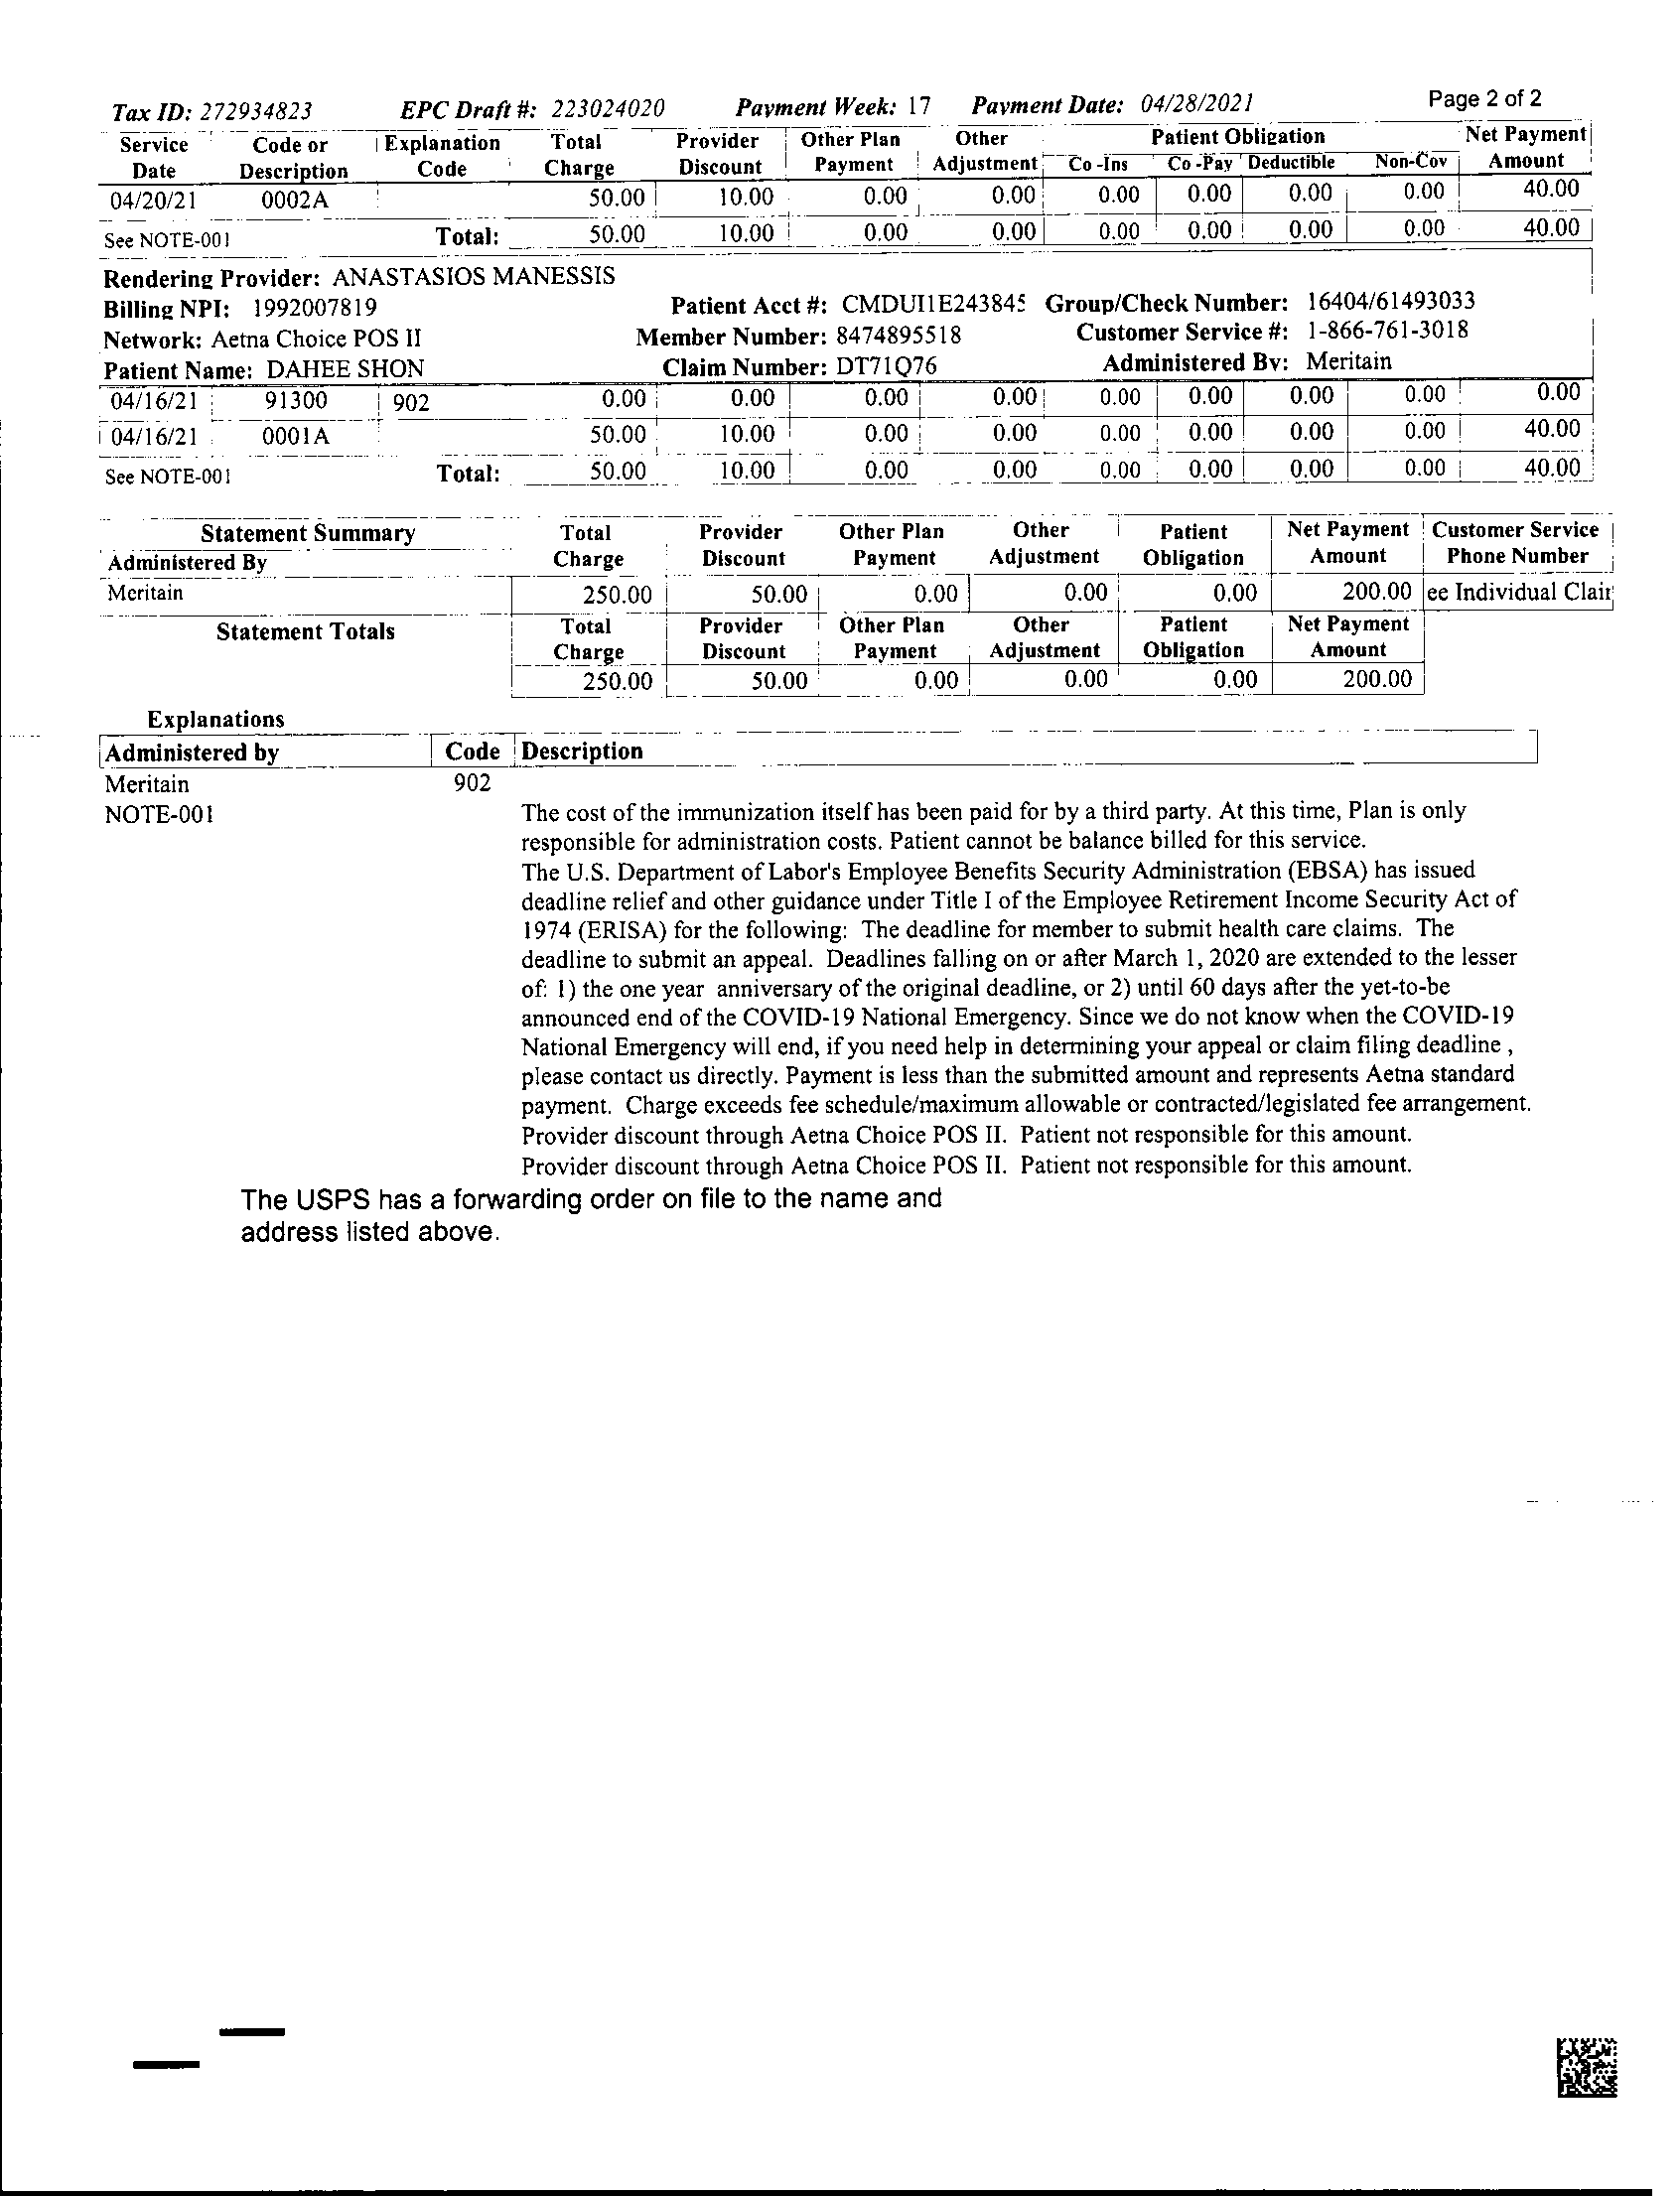data: (97, 261, 1491, 379)
table: (85, 72, 1611, 504), (99, 512, 1622, 707)
